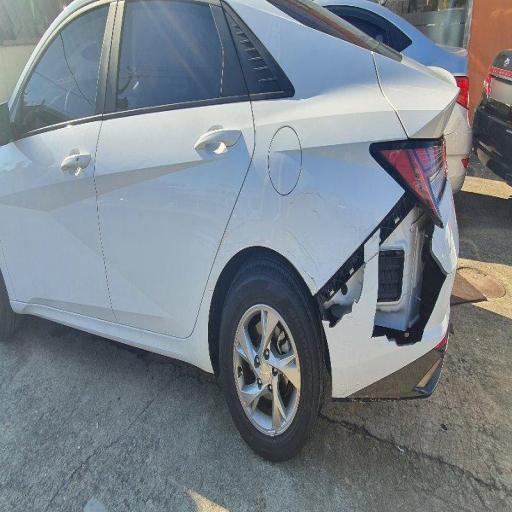broken: (276, 79, 478, 413)
